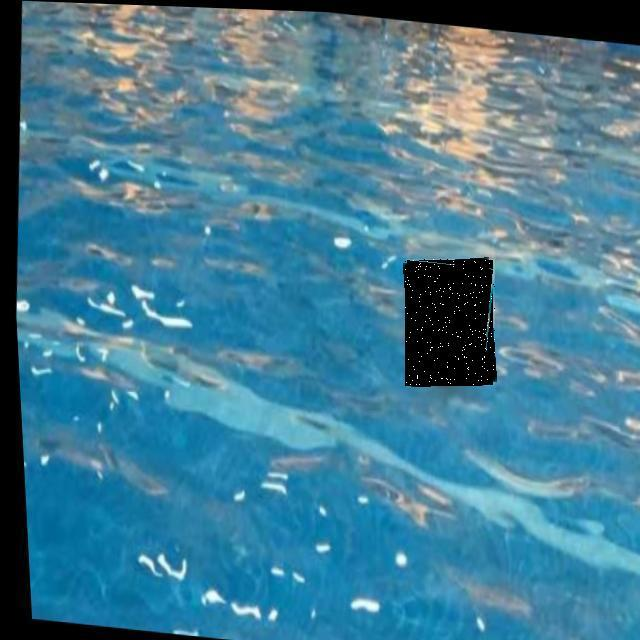swimming: (405, 259, 495, 386)
